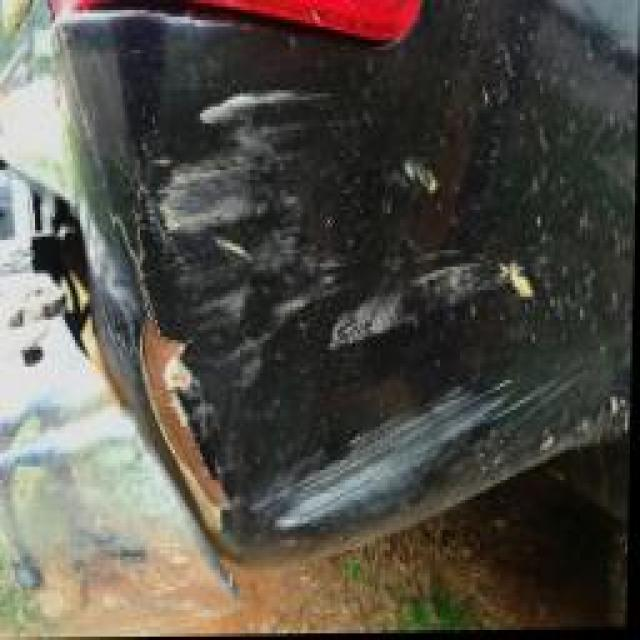Bumper: (0, 30, 639, 583)
